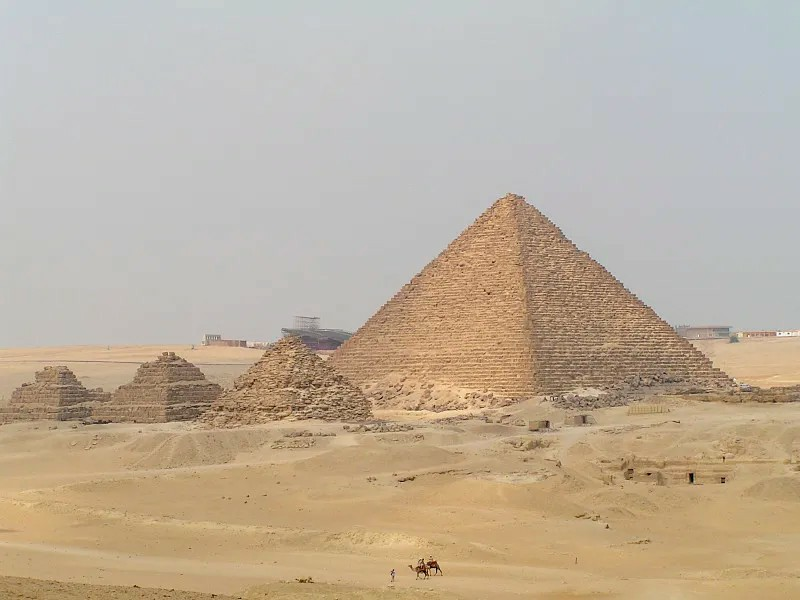Pyramid: (324, 193, 742, 401), (197, 337, 372, 426), (87, 351, 224, 424), (1, 367, 99, 427)
